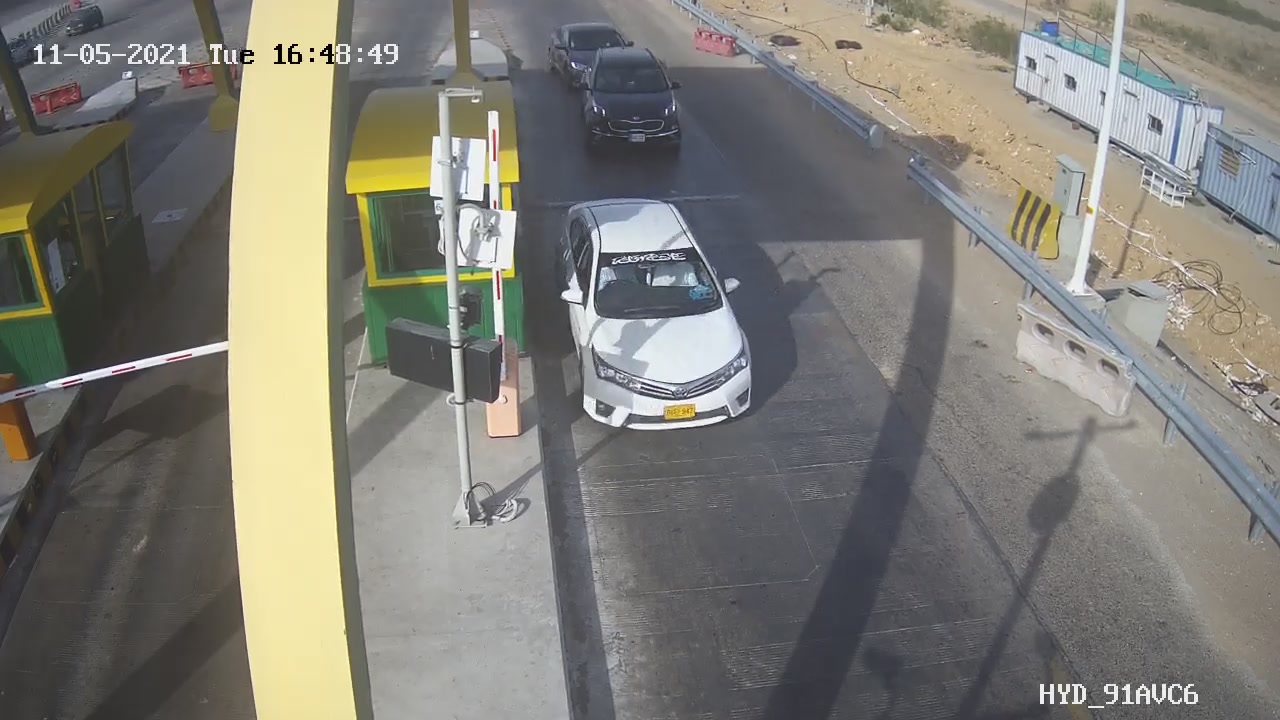F1: (538, 183, 782, 452), (569, 36, 703, 165)
